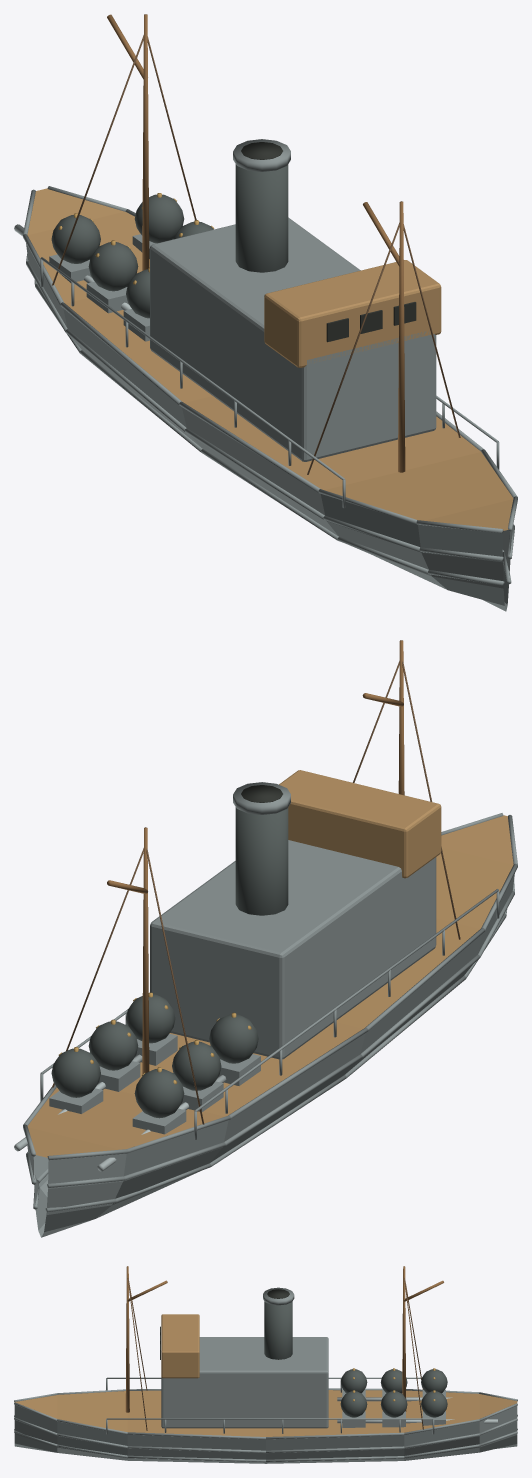
The model's file is steam-minelayer.glb.
3 renders of one model, top to bottom at view 1: azimuth 30°, elevation 25°; view 2: azimuth 150°, elevation 25°; view 3: azimuth 270°, elevation 25°, orthographic. The views are drawn at different scales.
Visible parts, largest first — view 1: unit_root_geometry; view 2: unit_root_geometry; view 3: unit_root_geometry.
Part boxes in pixels (<box>): unit_root_geometry: <box>14,14,517,611</box>; unit_root_geometry: <box>14,640,517,1237</box>; unit_root_geometry: <box>14,1266,517,1463</box>.
Size of the model in its own units: 1.41 by 2.52 by 6.02.
